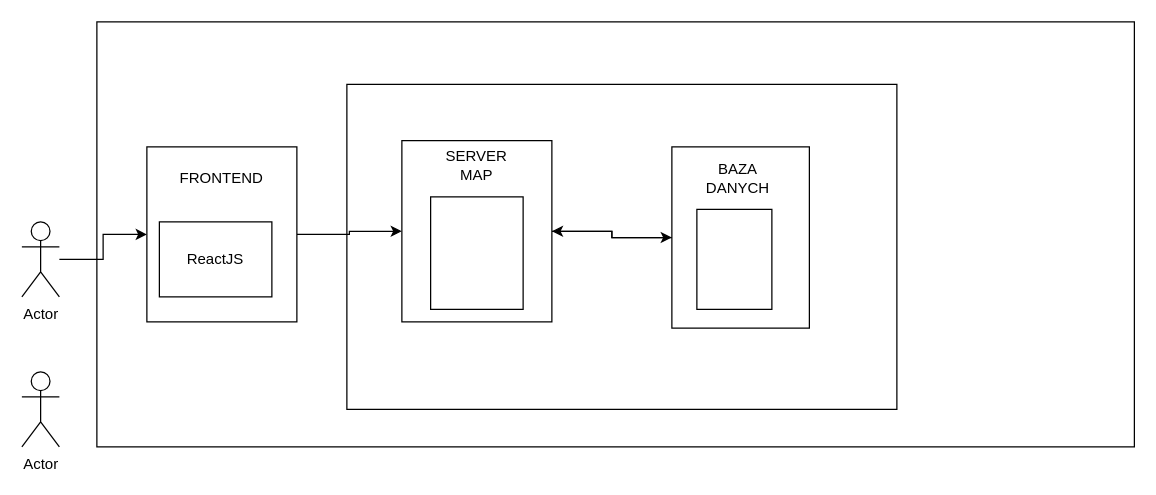
The diagram is 1156 pixels wide and 495 high, and some of its shapes have lost their labels. Here are the shapes that lost their labels. From the top down, the centre of each, then its label:
point (476, 252): Geoserwer
point (734, 258): POSTGIS
